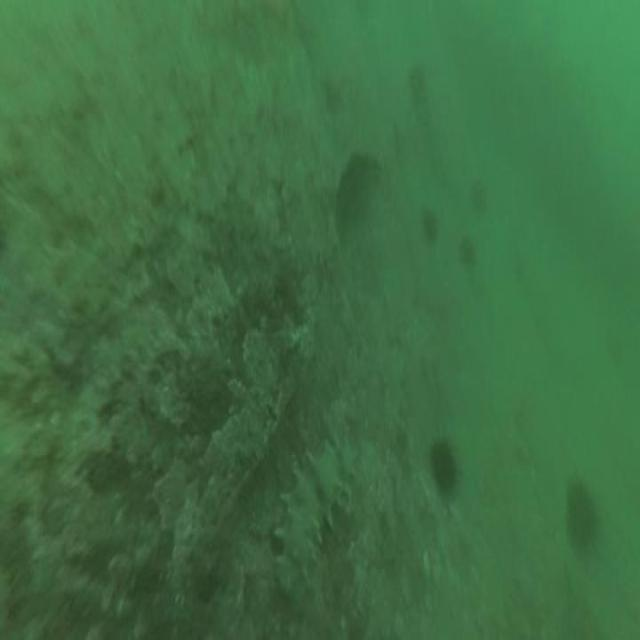echinus: (564, 482, 596, 551), (339, 153, 374, 212), (434, 441, 459, 490), (421, 205, 439, 242), (458, 235, 474, 261)
holothurian: (277, 441, 359, 597)
